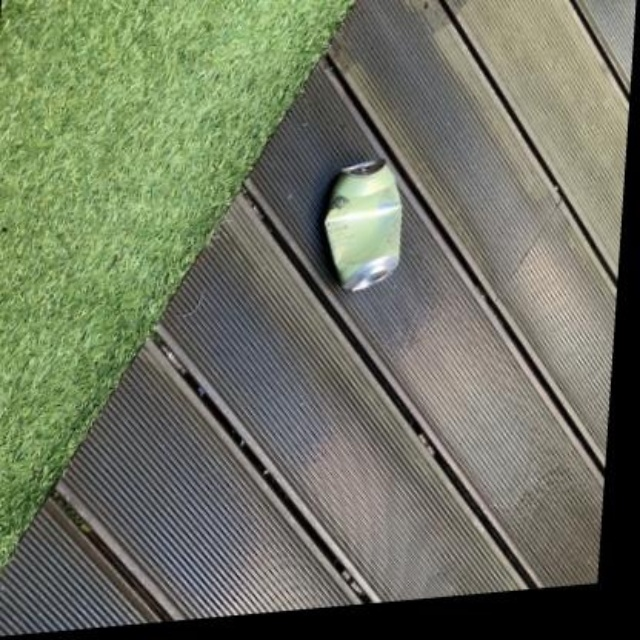trash: (325, 160, 400, 289)
